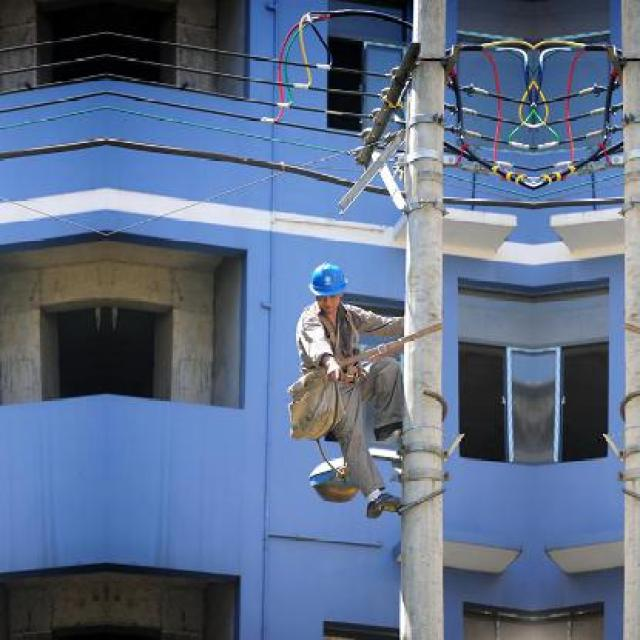helmet: (305, 256, 350, 326)
